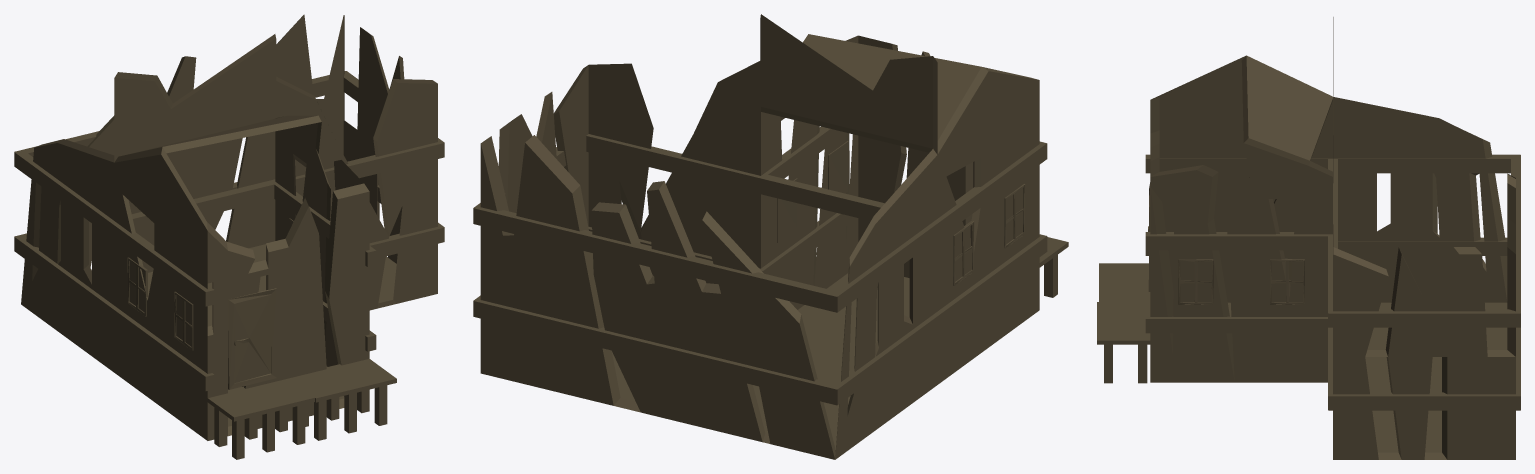
File: Building1.fbx
3 views of the same model, side by side, from view 1: azimuth 30°, elevation 25°; view 2: azimuth 150°, elevation 25°; view 3: azimuth 270°, elevation 25° (orthographic). The views are drawn at different scales.
Visible parts, largest first — view 1: building1; view 2: building1; view 3: building1.
Part boxes in pixels (x1=…): building1: x1=14, y1=14, x2=444, y2=459; building1: x1=473, y1=14, x2=1068, y2=459; building1: x1=1097, y1=17, x2=1520, y2=459.
Size of the model in its own units: 822 by 716 by 928.
